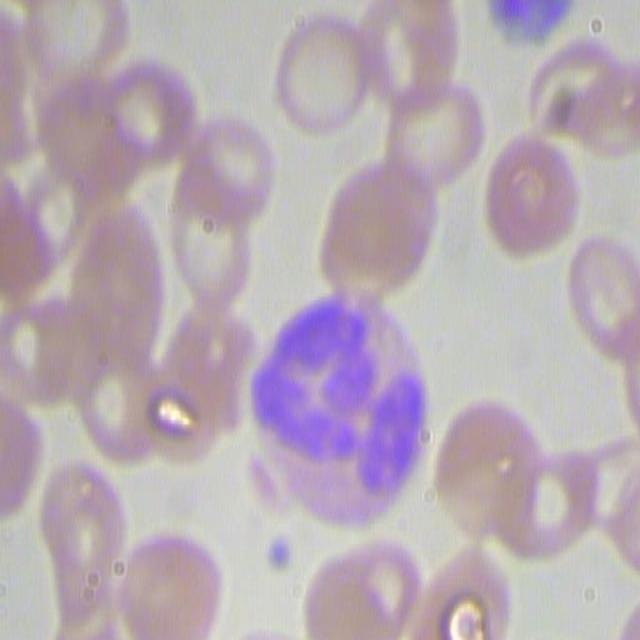RBC: (83, 322, 228, 486), (0, 139, 101, 334), (519, 2, 637, 165), (314, 157, 432, 306), (270, 7, 385, 147), (40, 460, 130, 634), (298, 526, 427, 638), (480, 132, 584, 260), (12, 0, 136, 99), (98, 58, 197, 182), (115, 528, 226, 637), (491, 451, 596, 565), (383, 78, 484, 196), (352, 1, 457, 114), (161, 188, 256, 310), (402, 548, 515, 640), (569, 436, 640, 573), (565, 237, 637, 363), (0, 379, 42, 529)
WBC: (255, 298, 434, 538)
platelets: (256, 510, 295, 577)
